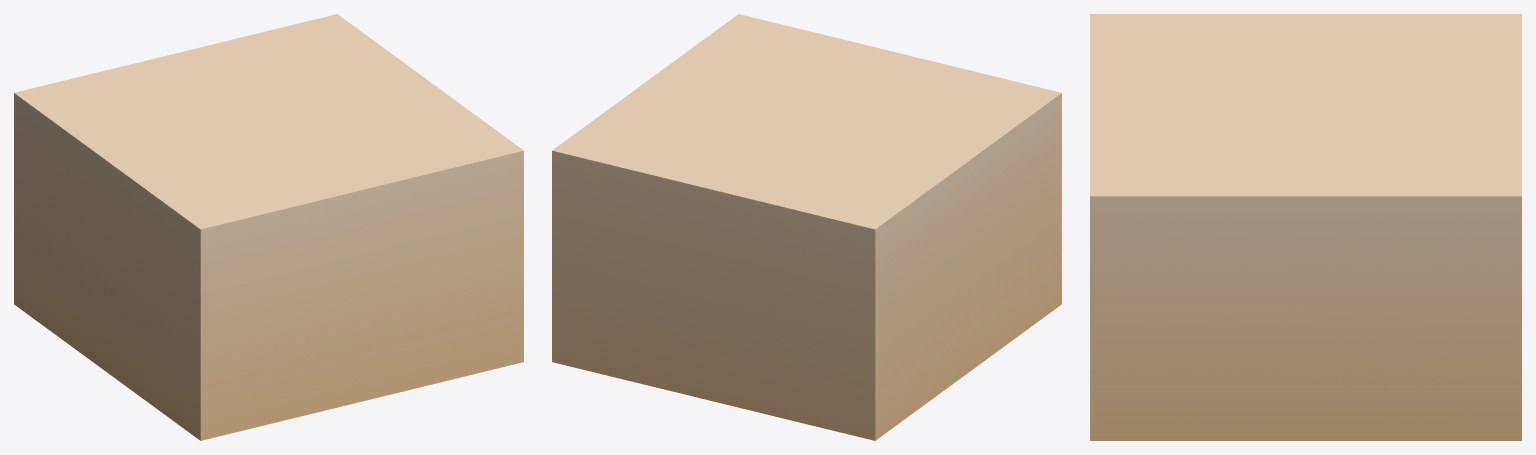
File: kp_ui_building_block.glb
The picture shows the model from 3 angles, left to right: view 1: azimuth 30°, elevation 25°; view 2: azimuth 150°, elevation 25°; view 3: azimuth 270°, elevation 25°; orthographic projection. The views are drawn at different scales.
Parts seen in each view (by area): view 1: building-block; view 2: building-block; view 3: building-block.
Boxes of the visible parts, <box> form: building-block: <box>14,14,523,440</box>; building-block: <box>552,14,1061,440</box>; building-block: <box>1090,14,1521,440</box>.
Bounding box in the file's own units: 1 × 0.625 × 1.
1 material, 1 textured.
